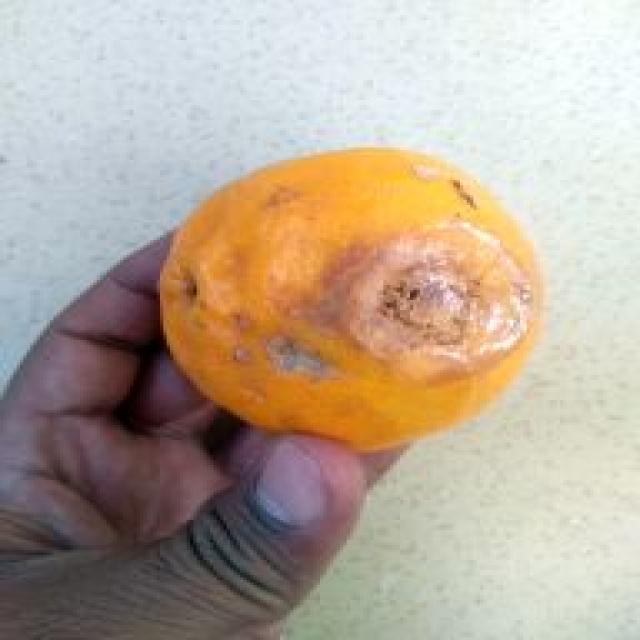Bad_Orange: (160, 148, 542, 449)
